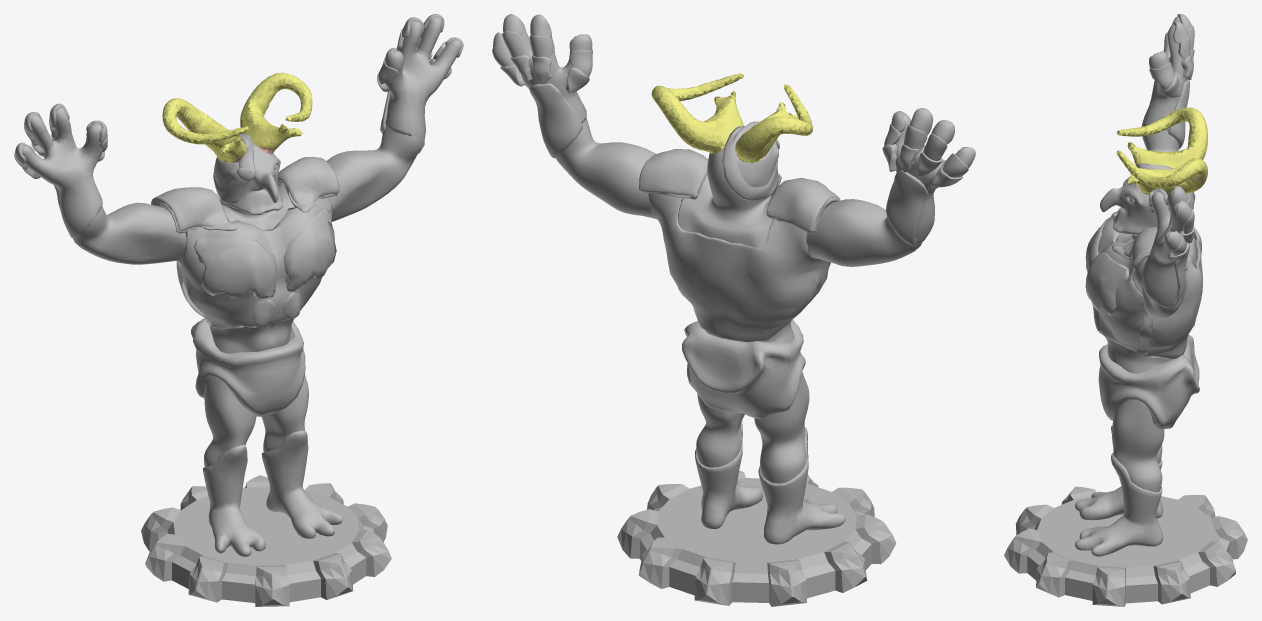
Rendered from MaleBossReduced.fbx.
3 renders of one model, left to right at view 1: azimuth 30°, elevation 25°; view 2: azimuth 150°, elevation 25°; view 3: azimuth 270°, elevation 25°, orthographic. The views are drawn at different scales.
Visible parts, largest first — view 1: PeanaSol, Extract21, Cuerpo, BrazosCotaDeMalla, Grebas, PetoMetal, PetoCuero, Taparrabos, Cuernos, HombreraMetal, Bandana, HombreraCuero; view 2: PeanaSol, Extract21, PetoCuero, Cuerpo, BrazosCotaDeMalla, Taparrabos, Grebas, Cuernos, HombreraMetal, Bandana; view 3: PeanaSol, Extract21, Cuerpo, PetoCuero, Taparrabos, Grebas, Cuernos, PetoMetal, BrazosCotaDeMalla, HombreraMetal.
Part boxes in pixels (bbox=[...]): PeanaSol: bbox=[141, 475, 391, 606]; Extract21: bbox=[14, 14, 463, 237]; Cuerpo: bbox=[177, 139, 308, 467]; BrazosCotaDeMalla: bbox=[72, 128, 424, 264]; Grebas: bbox=[203, 430, 342, 556]; PetoMetal: bbox=[194, 207, 336, 325]; PetoCuero: bbox=[176, 197, 332, 329]; Taparrabos: bbox=[191, 318, 305, 416]; Cuernos: bbox=[162, 72, 312, 162]; HombreraMetal: bbox=[151, 156, 339, 231]; Bandana: bbox=[213, 133, 254, 203]; HombreraCuero: bbox=[154, 167, 339, 233]; PeanaSol: bbox=[617, 470, 896, 606]; Extract21: bbox=[492, 14, 975, 245]; PetoCuero: bbox=[648, 193, 830, 342]; Cuerpo: bbox=[678, 142, 820, 483]; BrazosCotaDeMalla: bbox=[556, 118, 922, 266]; Taparrabos: bbox=[682, 320, 805, 418]; Grebas: bbox=[695, 420, 845, 544]; Cuernos: bbox=[651, 73, 812, 162]; HombreraMetal: bbox=[639, 149, 840, 232]; Bandana: bbox=[722, 121, 778, 200]; PeanaSol: bbox=[1004, 486, 1247, 606]; Extract21: bbox=[1141, 14, 1194, 307]; Cuerpo: bbox=[1100, 181, 1196, 492]; PetoCuero: bbox=[1098, 216, 1202, 358]; Taparrabos: bbox=[1098, 334, 1199, 429]; Grebas: bbox=[1075, 425, 1163, 556]; Cuernos: bbox=[1116, 107, 1207, 195]; PetoMetal: bbox=[1085, 218, 1128, 331]; BrazosCotaDeMalla: bbox=[1133, 130, 1186, 318]; HombreraMetal: bbox=[1122, 227, 1187, 270].
Size of the model in its own units: 5.83 by 5.97 by 2.91.
